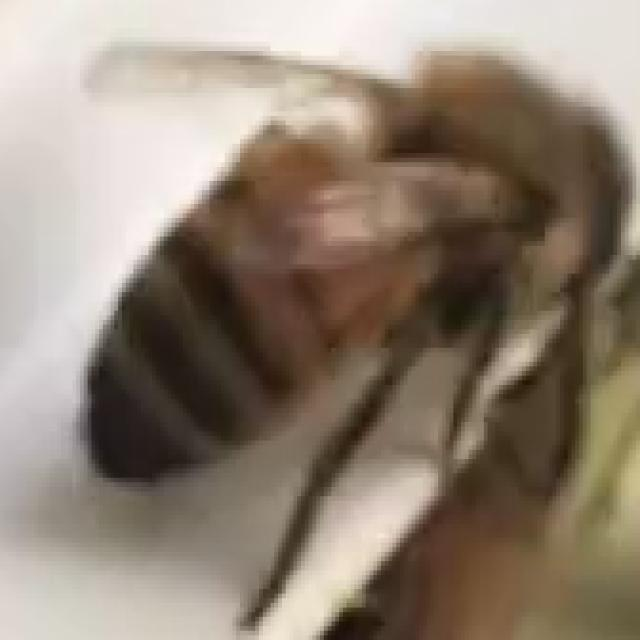honeybee: (52, 52, 588, 547)
